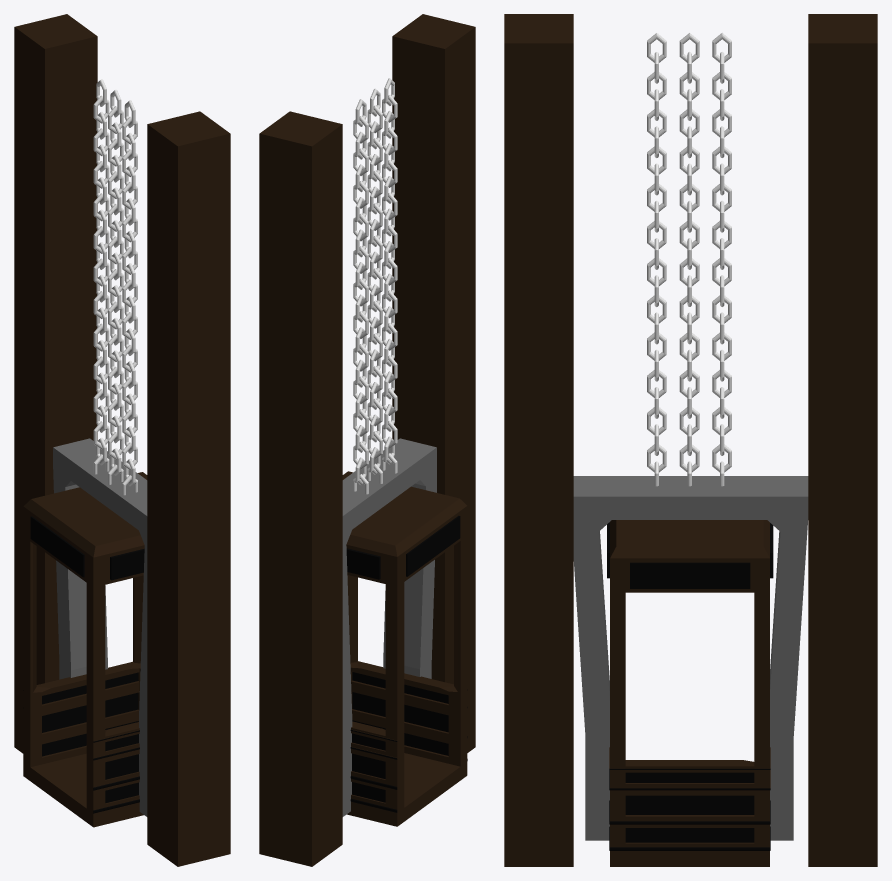
The model's file is elevator.fbx.
3 renders of one model, left to right at view 1: azimuth 30°, elevation 25°; view 2: azimuth 150°, elevation 25°; view 3: azimuth 270°, elevation 25°, orthographic. The views are drawn at different scales.
Parts seen in each view (by area): view 1: Torus.003; view 2: Torus.003; view 3: Torus.003.
Boxes of the visible parts, bbox=[...] form: Torus.003: bbox=[14, 14, 230, 866]; Torus.003: bbox=[259, 14, 475, 866]; Torus.003: bbox=[504, 14, 877, 866].
Size of the model in its own units: 215 by 1191 by 489.
